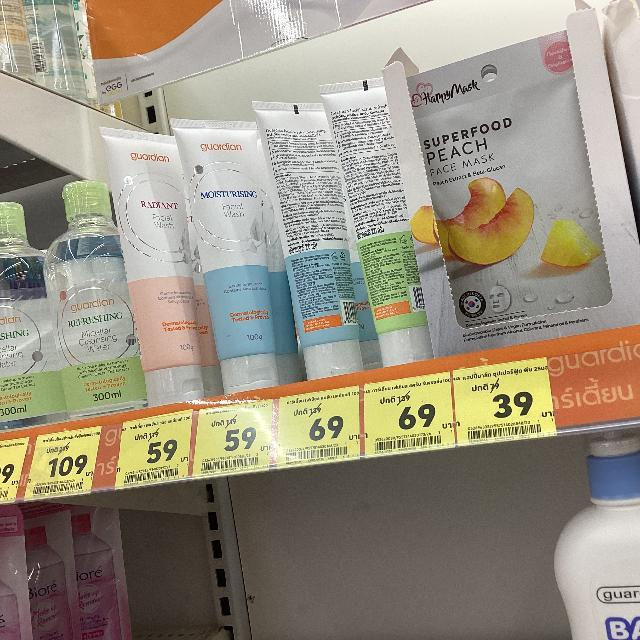Squeeze Tube: (89, 72, 450, 410)
